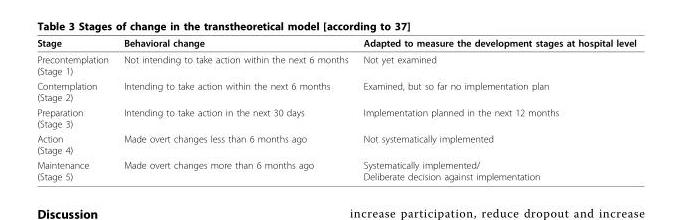table: (36, 36, 635, 181)
table column: (355, 36, 635, 181), (115, 36, 355, 181), (36, 36, 115, 181)
table column header: (36, 36, 635, 50)
table row: (36, 50, 635, 78), (36, 130, 635, 157), (36, 78, 635, 104), (36, 104, 635, 130), (36, 157, 635, 181), (36, 36, 635, 50)
